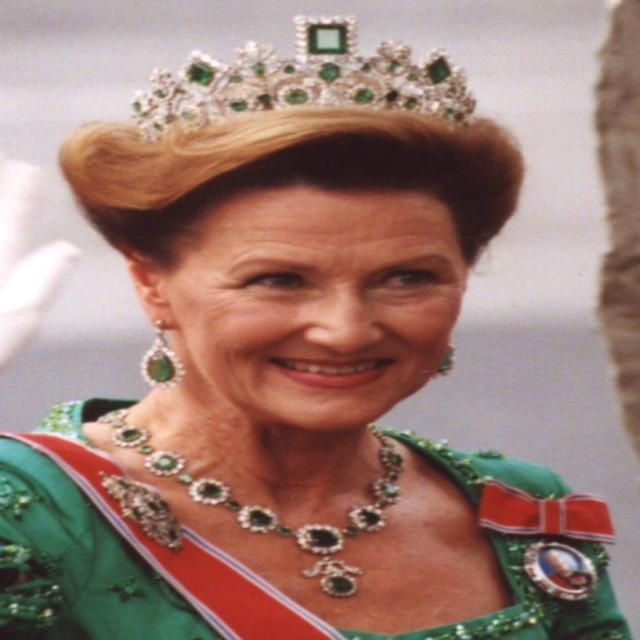Earring: (128, 304, 188, 399), (431, 336, 458, 386)
